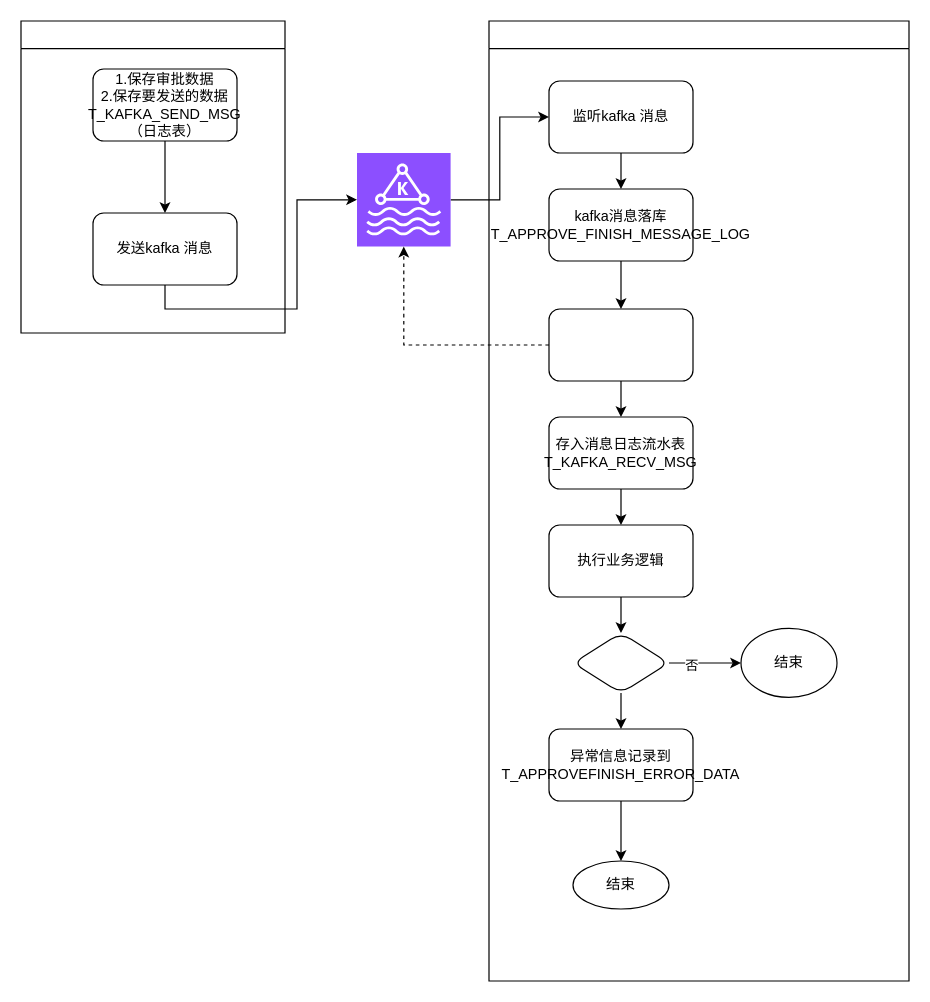
The diagram is 930 pixels wide and 1002 high, and some of its shapes have lost their labels. Each missing label, with the box of its shape:
审批服务: (20, 20, 285, 333)
是否异常: (572, 632, 669, 693)
案件服务: (488, 20, 909, 981)
消息接收确认ack: (548, 308, 693, 381)
